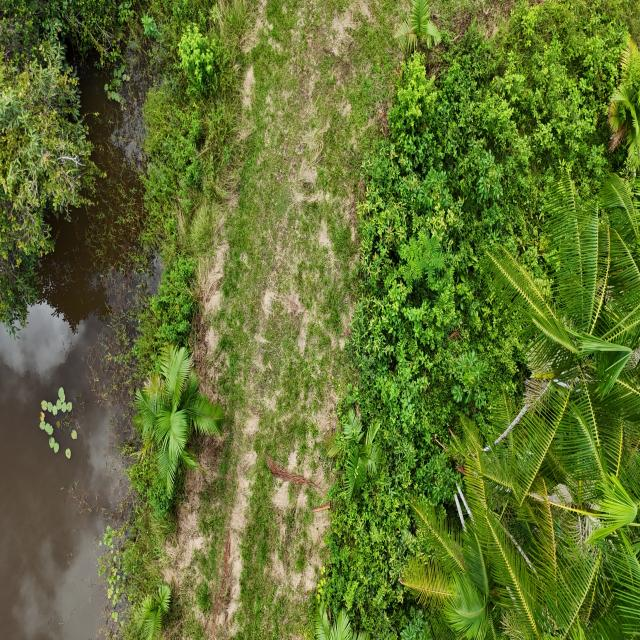vegetation: (315, 1, 638, 637)
